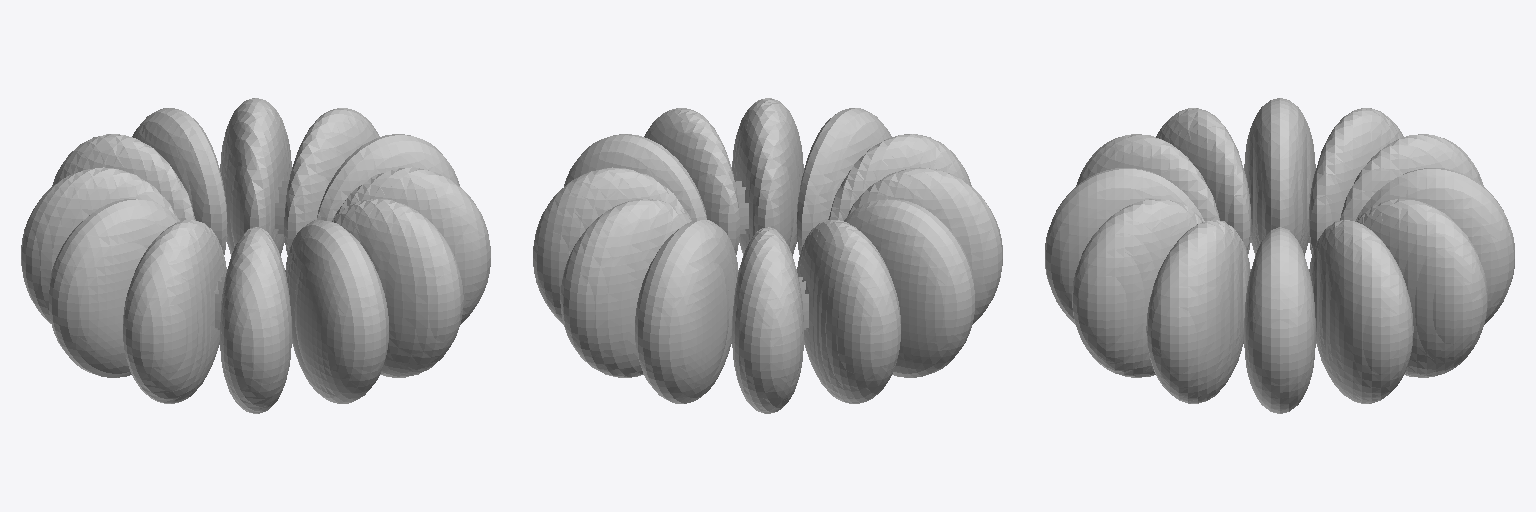
File: orb_n=7_ l=6 _m=6.obj
The picture shows the model from 3 angles: view 1: azimuth 30°, elevation 25°; view 2: azimuth 150°, elevation 25°; view 3: azimuth 270°, elevation 25°; orthographic projection.
Visible parts, largest first — view 1: orb_n=7__l=6__m=6; view 2: orb_n=7__l=6__m=6; view 3: orb_n=7__l=6__m=6.
Part boxes in pixels (x1,y1,x2,y2): orb_n=7__l=6__m=6: (21,98,490,413); orb_n=7__l=6__m=6: (533,98,1002,413); orb_n=7__l=6__m=6: (1045,98,1514,413).
Bounding box in the file's own units: 171 × 69.97 × 171.